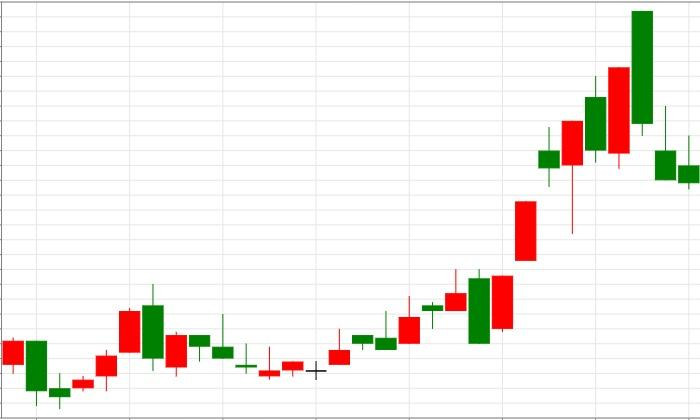bearish_engulfing_fall: (49, 284, 164, 408)
hanging_man_fall: (468, 120, 583, 344)
